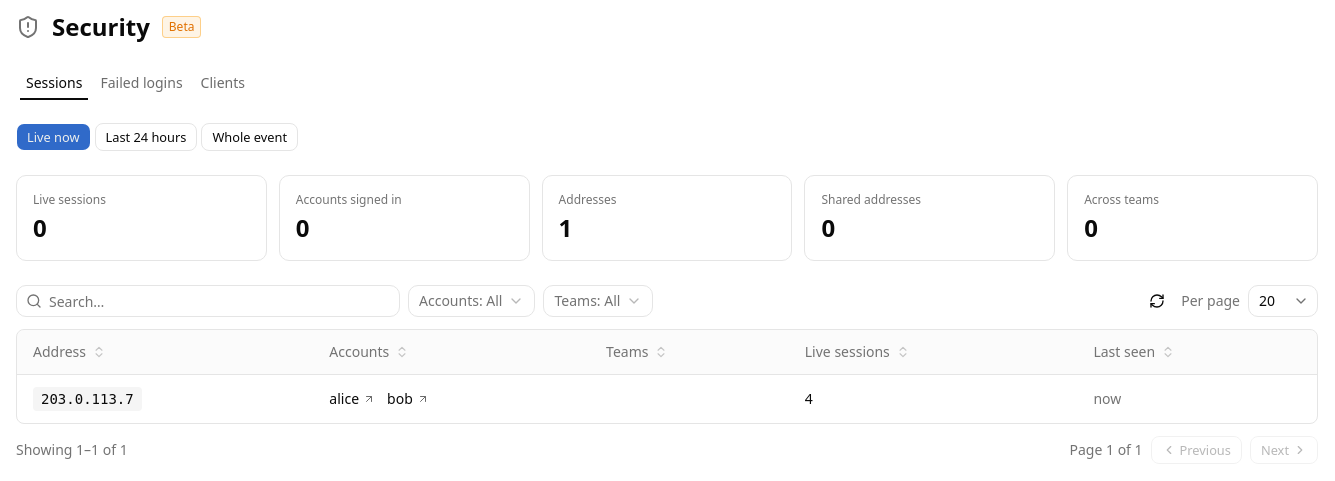
counts an account's logins on an address it signed in from
Click the button "Whole event". click: (250, 137)
box: left=201, top=123, right=298, bottom=151
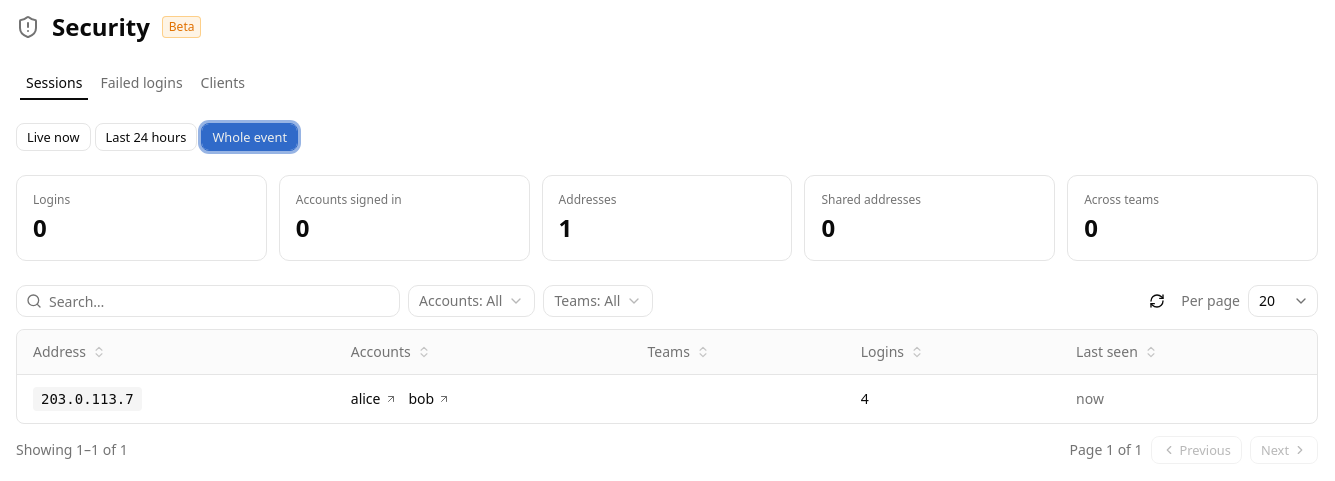
Now the element titled "3 logins" is shown, box left=351, top=387, right=396, bottom=411
